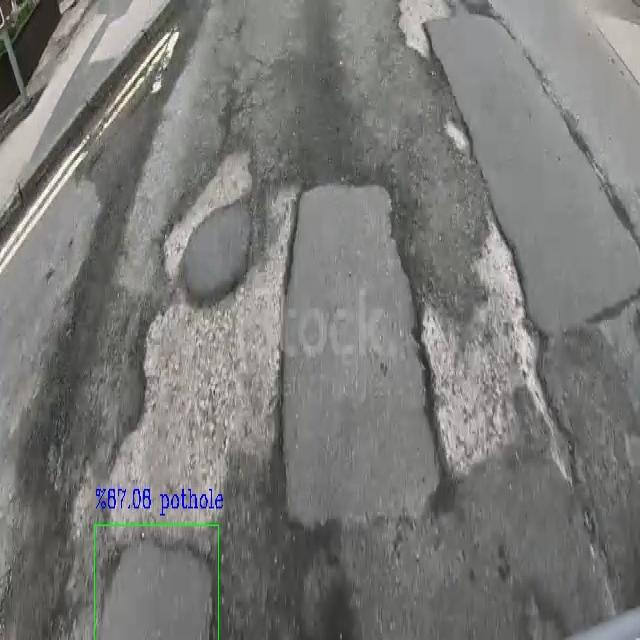pothole: (95, 526, 216, 640), (178, 191, 262, 311)
